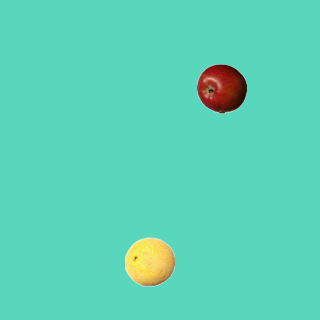Apple Braeburn: (196, 63, 246, 113)
Cantaloupe 1: (124, 236, 174, 286)
